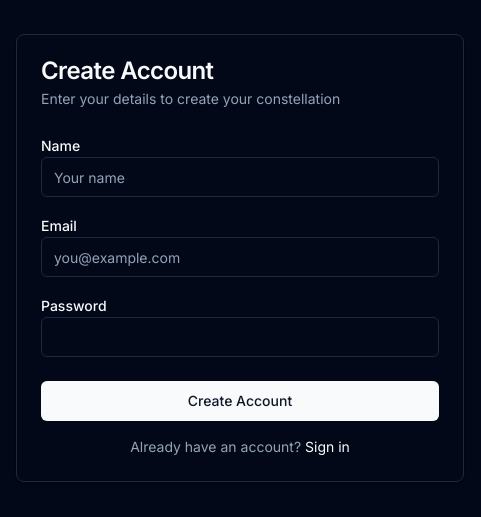
it: Register Page › should show error on failed registration
Type "Test User" into the field labelled "Name" at (240,177), box [41,157,439,197]
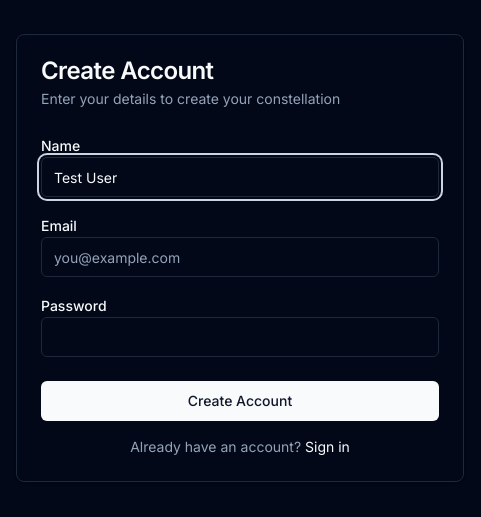
Type "test@example.com" into the field labelled "Email" at (240,257), box [41,237,439,277]
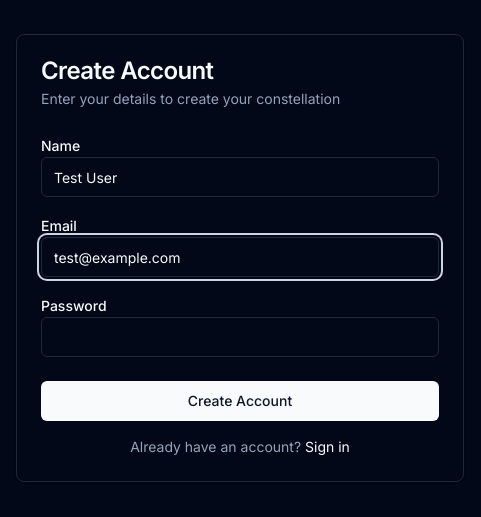
Type "password123" into the password field labelled "Password" at (240,337), box [41,317,439,357]
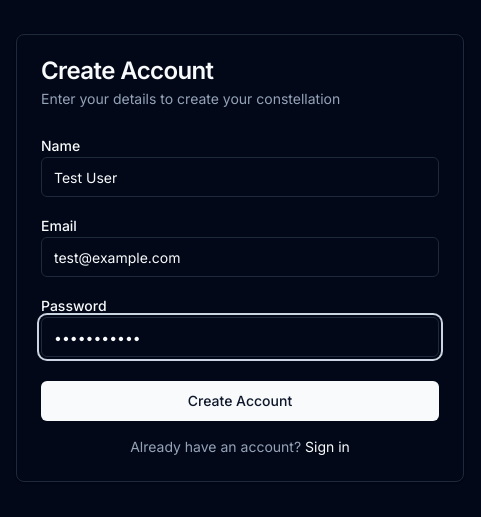
Click the button "Create Account" at (240,401), box [41,381,439,421]
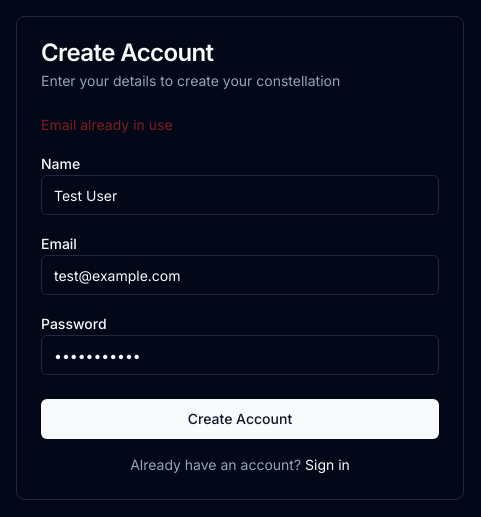
Expected: the text "Email already in use" is shown, [41,116,173,133]
